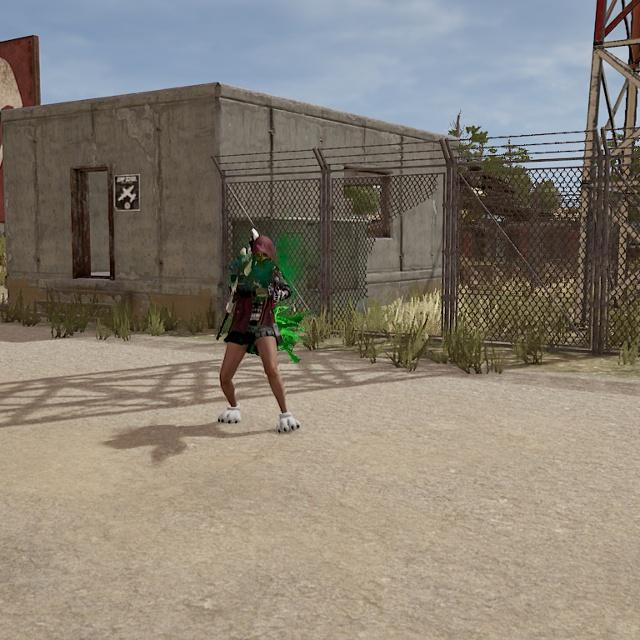head: (250, 234, 275, 272)
people: (217, 234, 302, 435)
